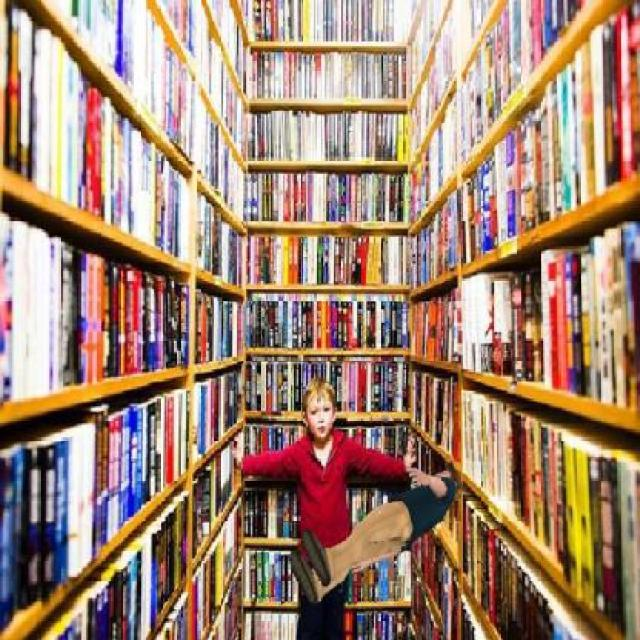Person: (284, 463, 458, 611)
